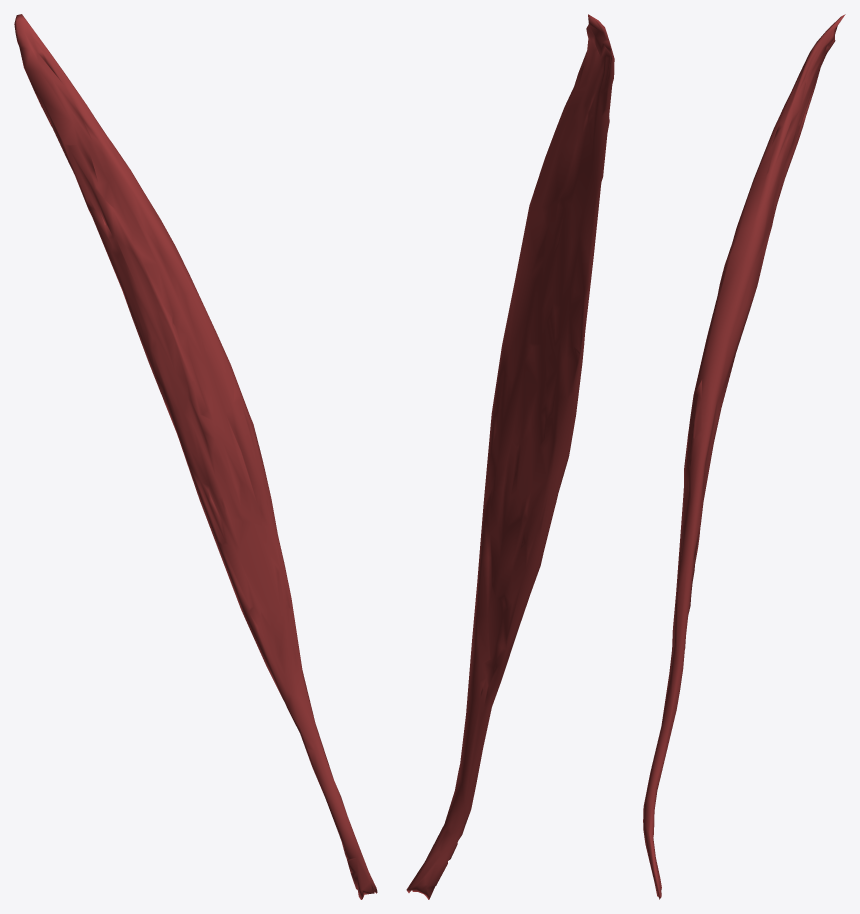
File: flexor-carpi-radialis-l.glb
The picture shows the model from 3 angles, left to right: view 1: azimuth 30°, elevation 25°; view 2: azimuth 150°, elevation 25°; view 3: azimuth 270°, elevation 25°; orthographic projection. The views are drawn at different scales.
Visible parts, largest first — view 1: Flexor carpi radialis.l; view 2: Flexor carpi radialis.l; view 3: Flexor carpi radialis.l.
Boxes of the visible parts, x1,y1,x2,y2 form: Flexor carpi radialis.l: (14, 14, 377, 899); Flexor carpi radialis.l: (406, 14, 614, 899); Flexor carpi radialis.l: (643, 14, 845, 899).
Size of the model in its own units: 0.0906 by 0.2858 by 0.0676.
